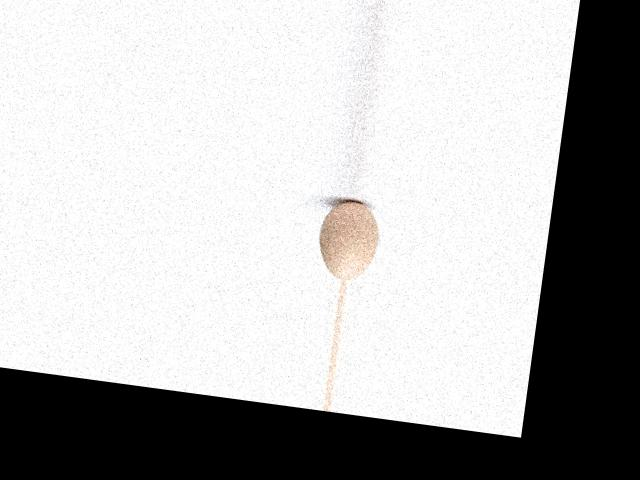egg: (314, 196, 383, 283)
